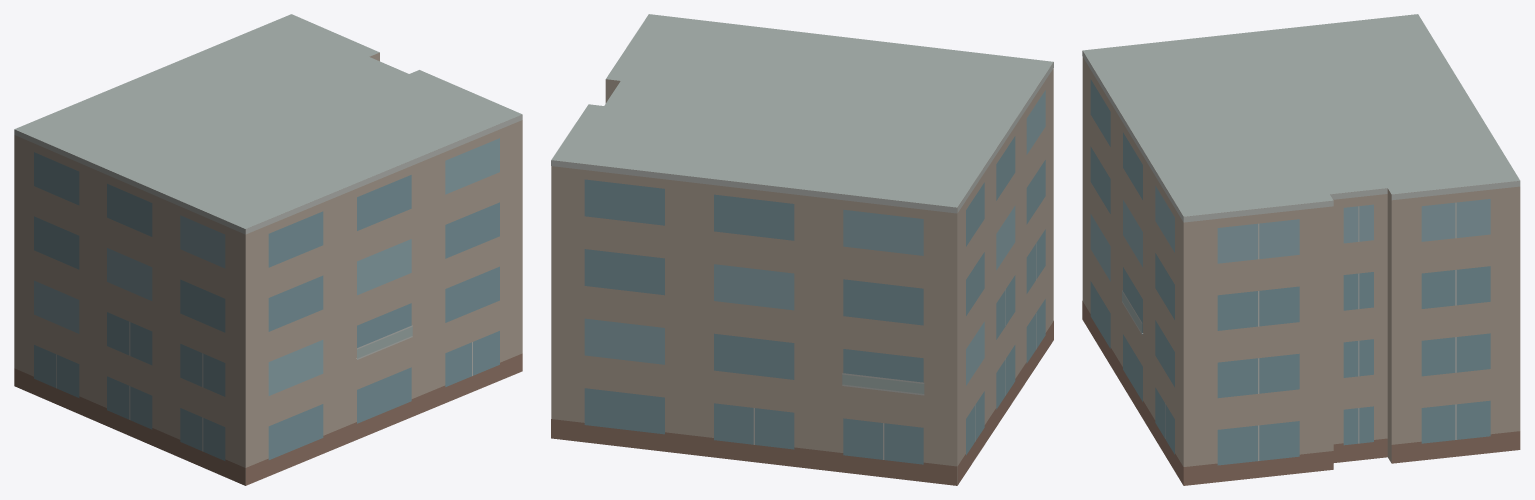
Rendered from survey-upis-33038922.glb.
3 views of the same model, side by side, from view 1: azimuth 30°, elevation 25°; view 2: azimuth 150°, elevation 25°; view 3: azimuth 270°, elevation 25° (orthographic). The views are drawn at different scales.
Visible parts, largest first — view 1: survey-upis-33038922.tmp; view 2: survey-upis-33038922.tmp; view 3: survey-upis-33038922.tmp.
Boxes of the visible parts, <box> form: survey-upis-33038922.tmp: <box>14,14,522,485</box>; survey-upis-33038922.tmp: <box>551,14,1053,485</box>; survey-upis-33038922.tmp: <box>1082,14,1520,485</box>.
Bounding box in the file's own units: 18.44 × 11.4 × 16.82.
